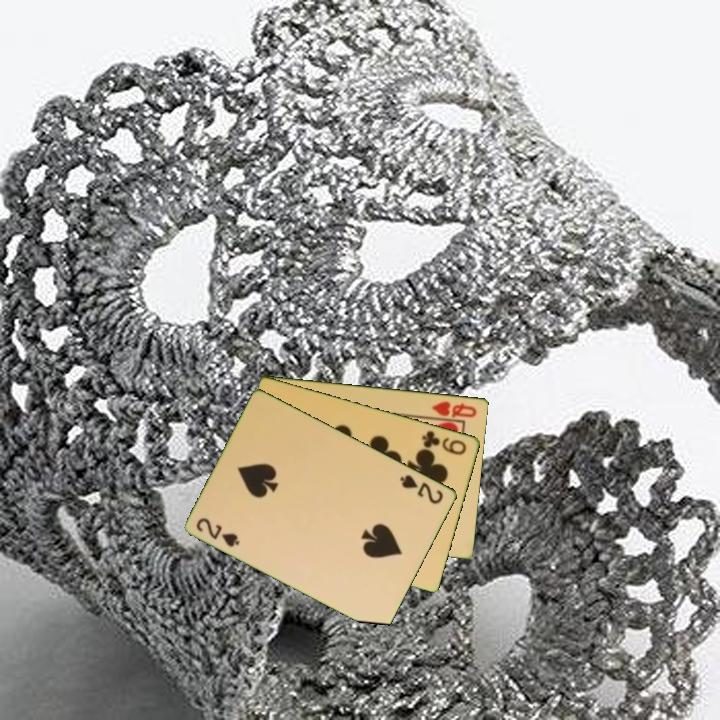2s: (396, 471, 447, 507), (193, 514, 243, 550)
9c: (419, 427, 470, 458)
Qh: (428, 398, 480, 420)
